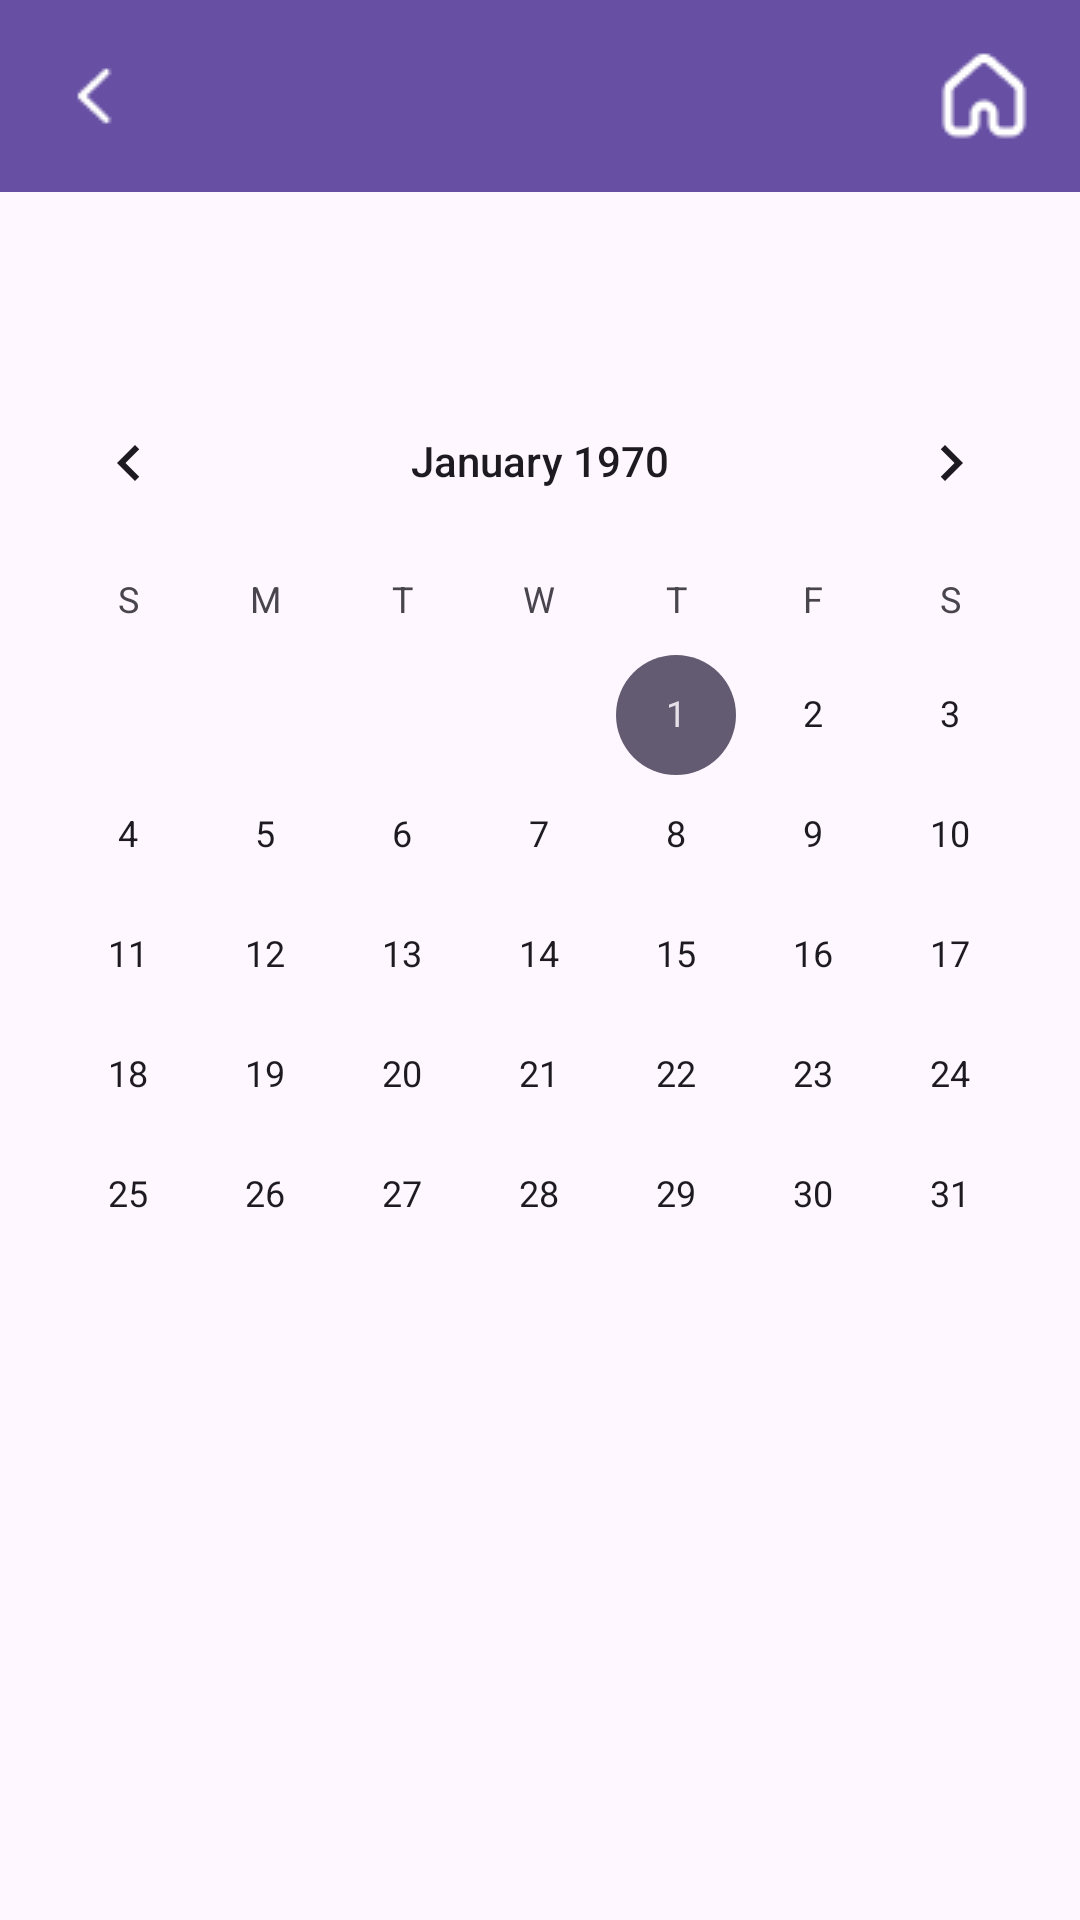

Named icons in this screenshot (1080×1920) and their bounding boxes, (x1, y1, x2, y2):
뒤로가기: (77, 68, 111, 124)
홈으로 가기: (941, 53, 1027, 139)
